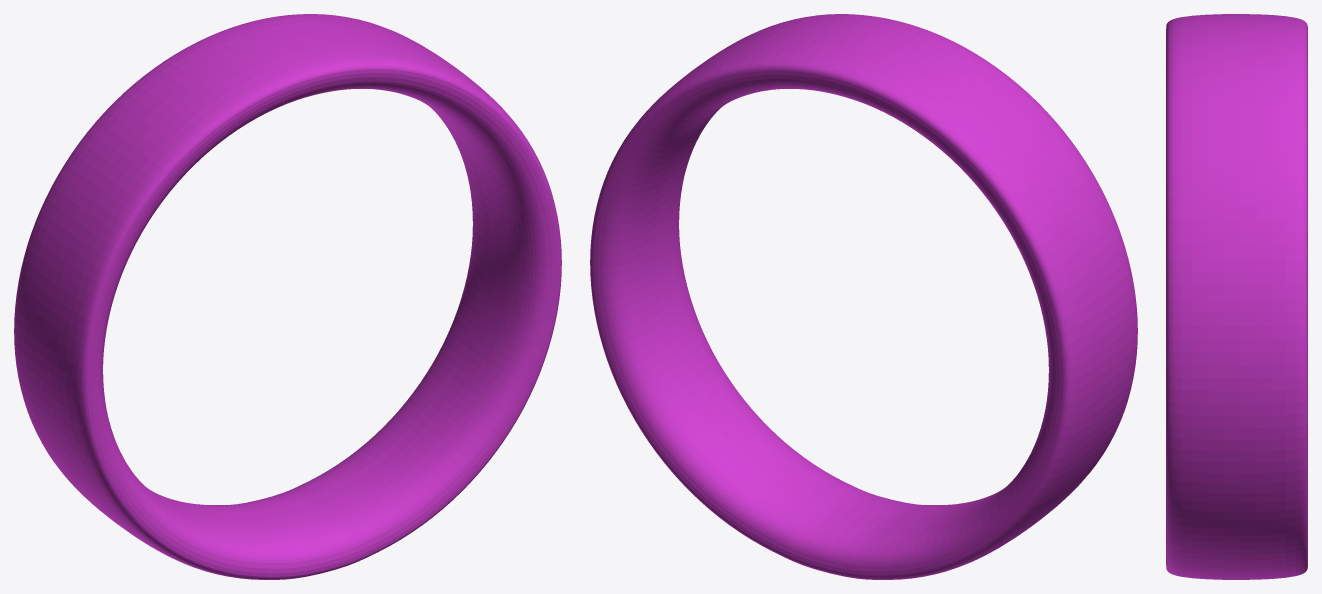
Rendered from plain-ring.fbx.
3 views of the same model, side by side, from view 1: azimuth 30°, elevation 25°; view 2: azimuth 150°, elevation 25°; view 3: azimuth 270°, elevation 25° (orthographic).
Visible parts, largest first — view 1: 16046_vn.obj_1; view 2: 16046_vn.obj_1; view 3: 16046_vn.obj_1.
Boxes of the visible parts, box(x1,y1,x2,y2) form: 16046_vn.obj_1: box(14, 14, 561, 579); 16046_vn.obj_1: box(590, 14, 1137, 579); 16046_vn.obj_1: box(1166, 14, 1307, 579).
Size of the model in its own units: 2 by 2 by 0.5005.
